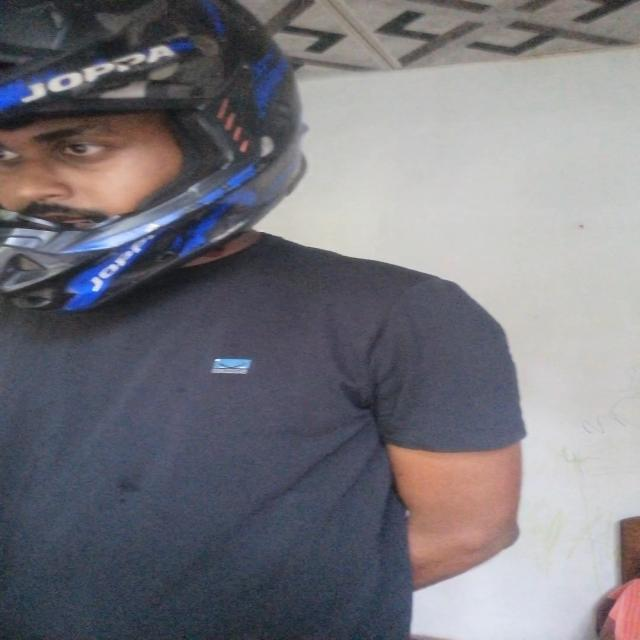Helmet_Wearer: (10, 2, 298, 314)
Person: (0, 0, 526, 640)
